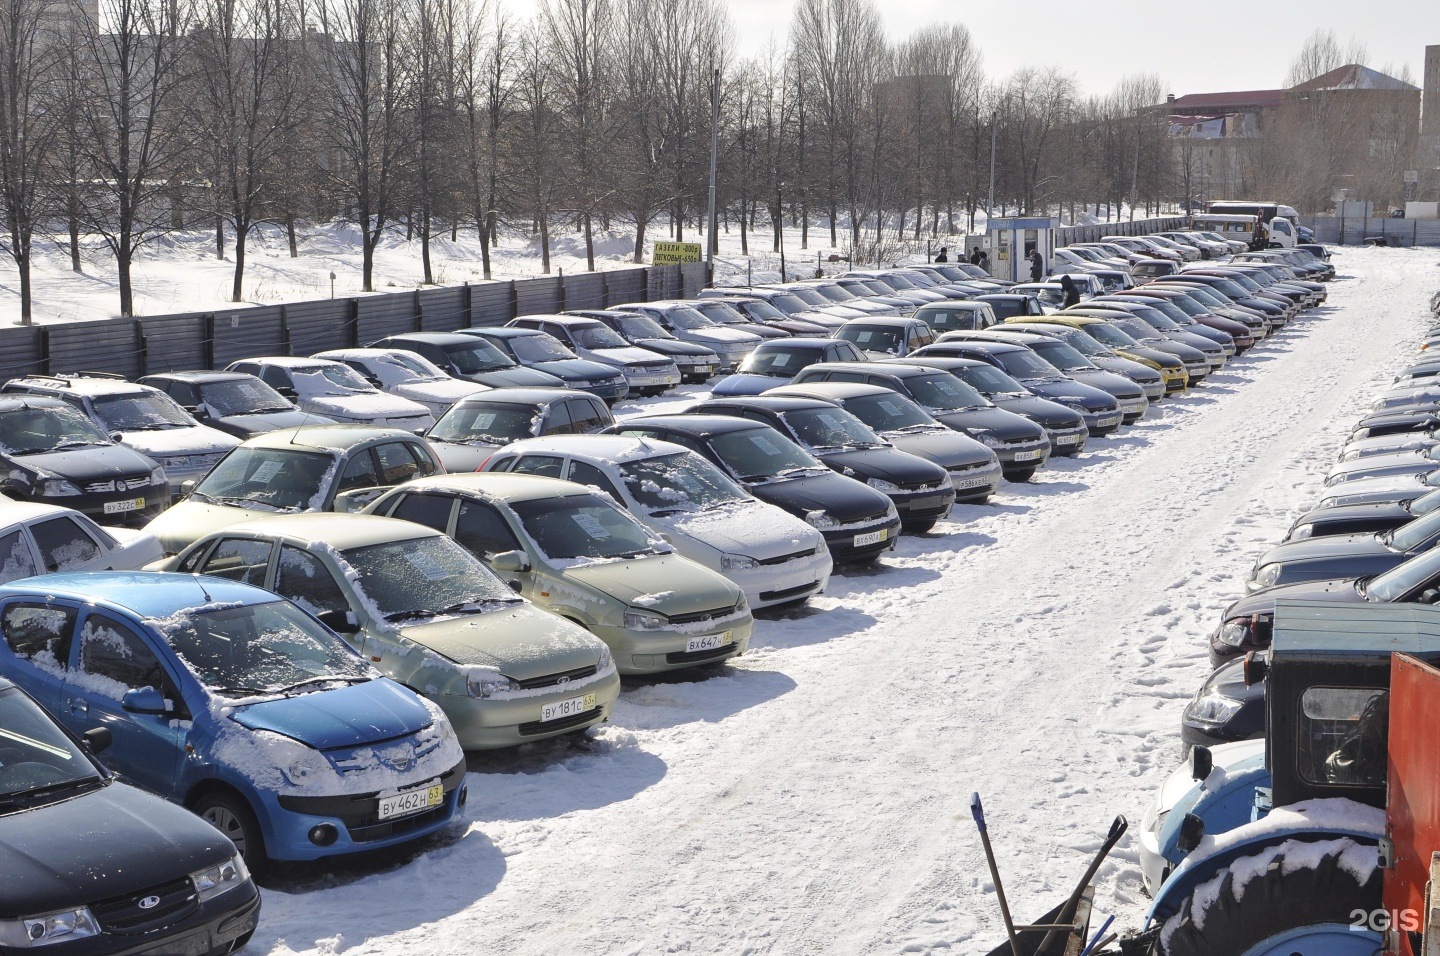Car: (0, 571, 466, 865), (1113, 600, 1440, 956), (148, 514, 619, 750), (334, 474, 752, 674), (0, 678, 260, 956), (475, 435, 832, 609), (588, 414, 903, 561), (143, 424, 441, 554), (684, 396, 954, 532), (789, 362, 1052, 480), (754, 383, 1002, 503), (0, 375, 240, 497), (1211, 548, 1440, 666), (0, 395, 170, 522), (874, 359, 1089, 455), (902, 342, 1122, 435), (931, 331, 1148, 424), (413, 389, 612, 473), (1246, 510, 1440, 593), (223, 359, 434, 431), (1003, 315, 1188, 397), (501, 314, 679, 395), (981, 324, 1164, 402), (133, 371, 336, 440), (452, 328, 628, 405), (0, 501, 162, 583), (1043, 309, 1211, 384), (308, 349, 492, 416), (356, 332, 564, 387), (557, 310, 719, 381), (605, 302, 764, 373), (1063, 301, 1225, 370), (711, 337, 870, 399), (1088, 294, 1236, 361), (1111, 290, 1255, 356), (1181, 654, 1264, 753), (1130, 284, 1266, 344), (1284, 490, 1440, 542), (1145, 281, 1271, 338), (1151, 274, 1287, 328), (694, 287, 848, 334), (1179, 270, 1298, 319), (654, 300, 791, 341), (699, 297, 832, 338), (1312, 469, 1440, 511), (1179, 269, 1307, 309), (1215, 262, 1328, 307), (1324, 447, 1440, 490), (1204, 200, 1317, 243), (831, 316, 937, 362), (797, 278, 916, 319), (1202, 267, 1317, 308), (754, 284, 871, 320), (781, 283, 901, 317), (821, 271, 951, 302), (1190, 213, 1297, 250), (1215, 276, 1293, 323), (1337, 429, 1440, 462), (911, 301, 998, 339), (1346, 412, 1440, 445), (903, 265, 1006, 293), (885, 268, 972, 301), (933, 261, 1019, 294), (848, 278, 930, 309), (1229, 252, 1311, 281), (1101, 235, 1188, 261), (910, 269, 988, 299), (973, 293, 1044, 324), (1364, 384, 1440, 413), (1109, 239, 1184, 268), (1253, 252, 1322, 283), (1260, 251, 1330, 281), (1149, 232, 1220, 260), (1067, 242, 1154, 266), (1264, 250, 1335, 277), (1008, 283, 1069, 315), (1055, 248, 1130, 273), (1045, 274, 1107, 303), (1135, 236, 1201, 261), (1054, 250, 1115, 274), (1363, 400, 1440, 419), (1129, 259, 1180, 286), (1084, 270, 1135, 296), (1391, 361, 1440, 385), (1081, 246, 1131, 268), (1186, 233, 1230, 256), (1201, 233, 1249, 254), (1388, 202, 1439, 219), (1389, 375, 1440, 391), (1407, 345, 1440, 368), (1295, 244, 1330, 264), (1417, 335, 1440, 353), (1179, 200, 1204, 210), (1423, 329, 1440, 339), (1430, 290, 1440, 307), (1430, 297, 1440, 312), (1428, 324, 1440, 333), (1434, 304, 1440, 317)
